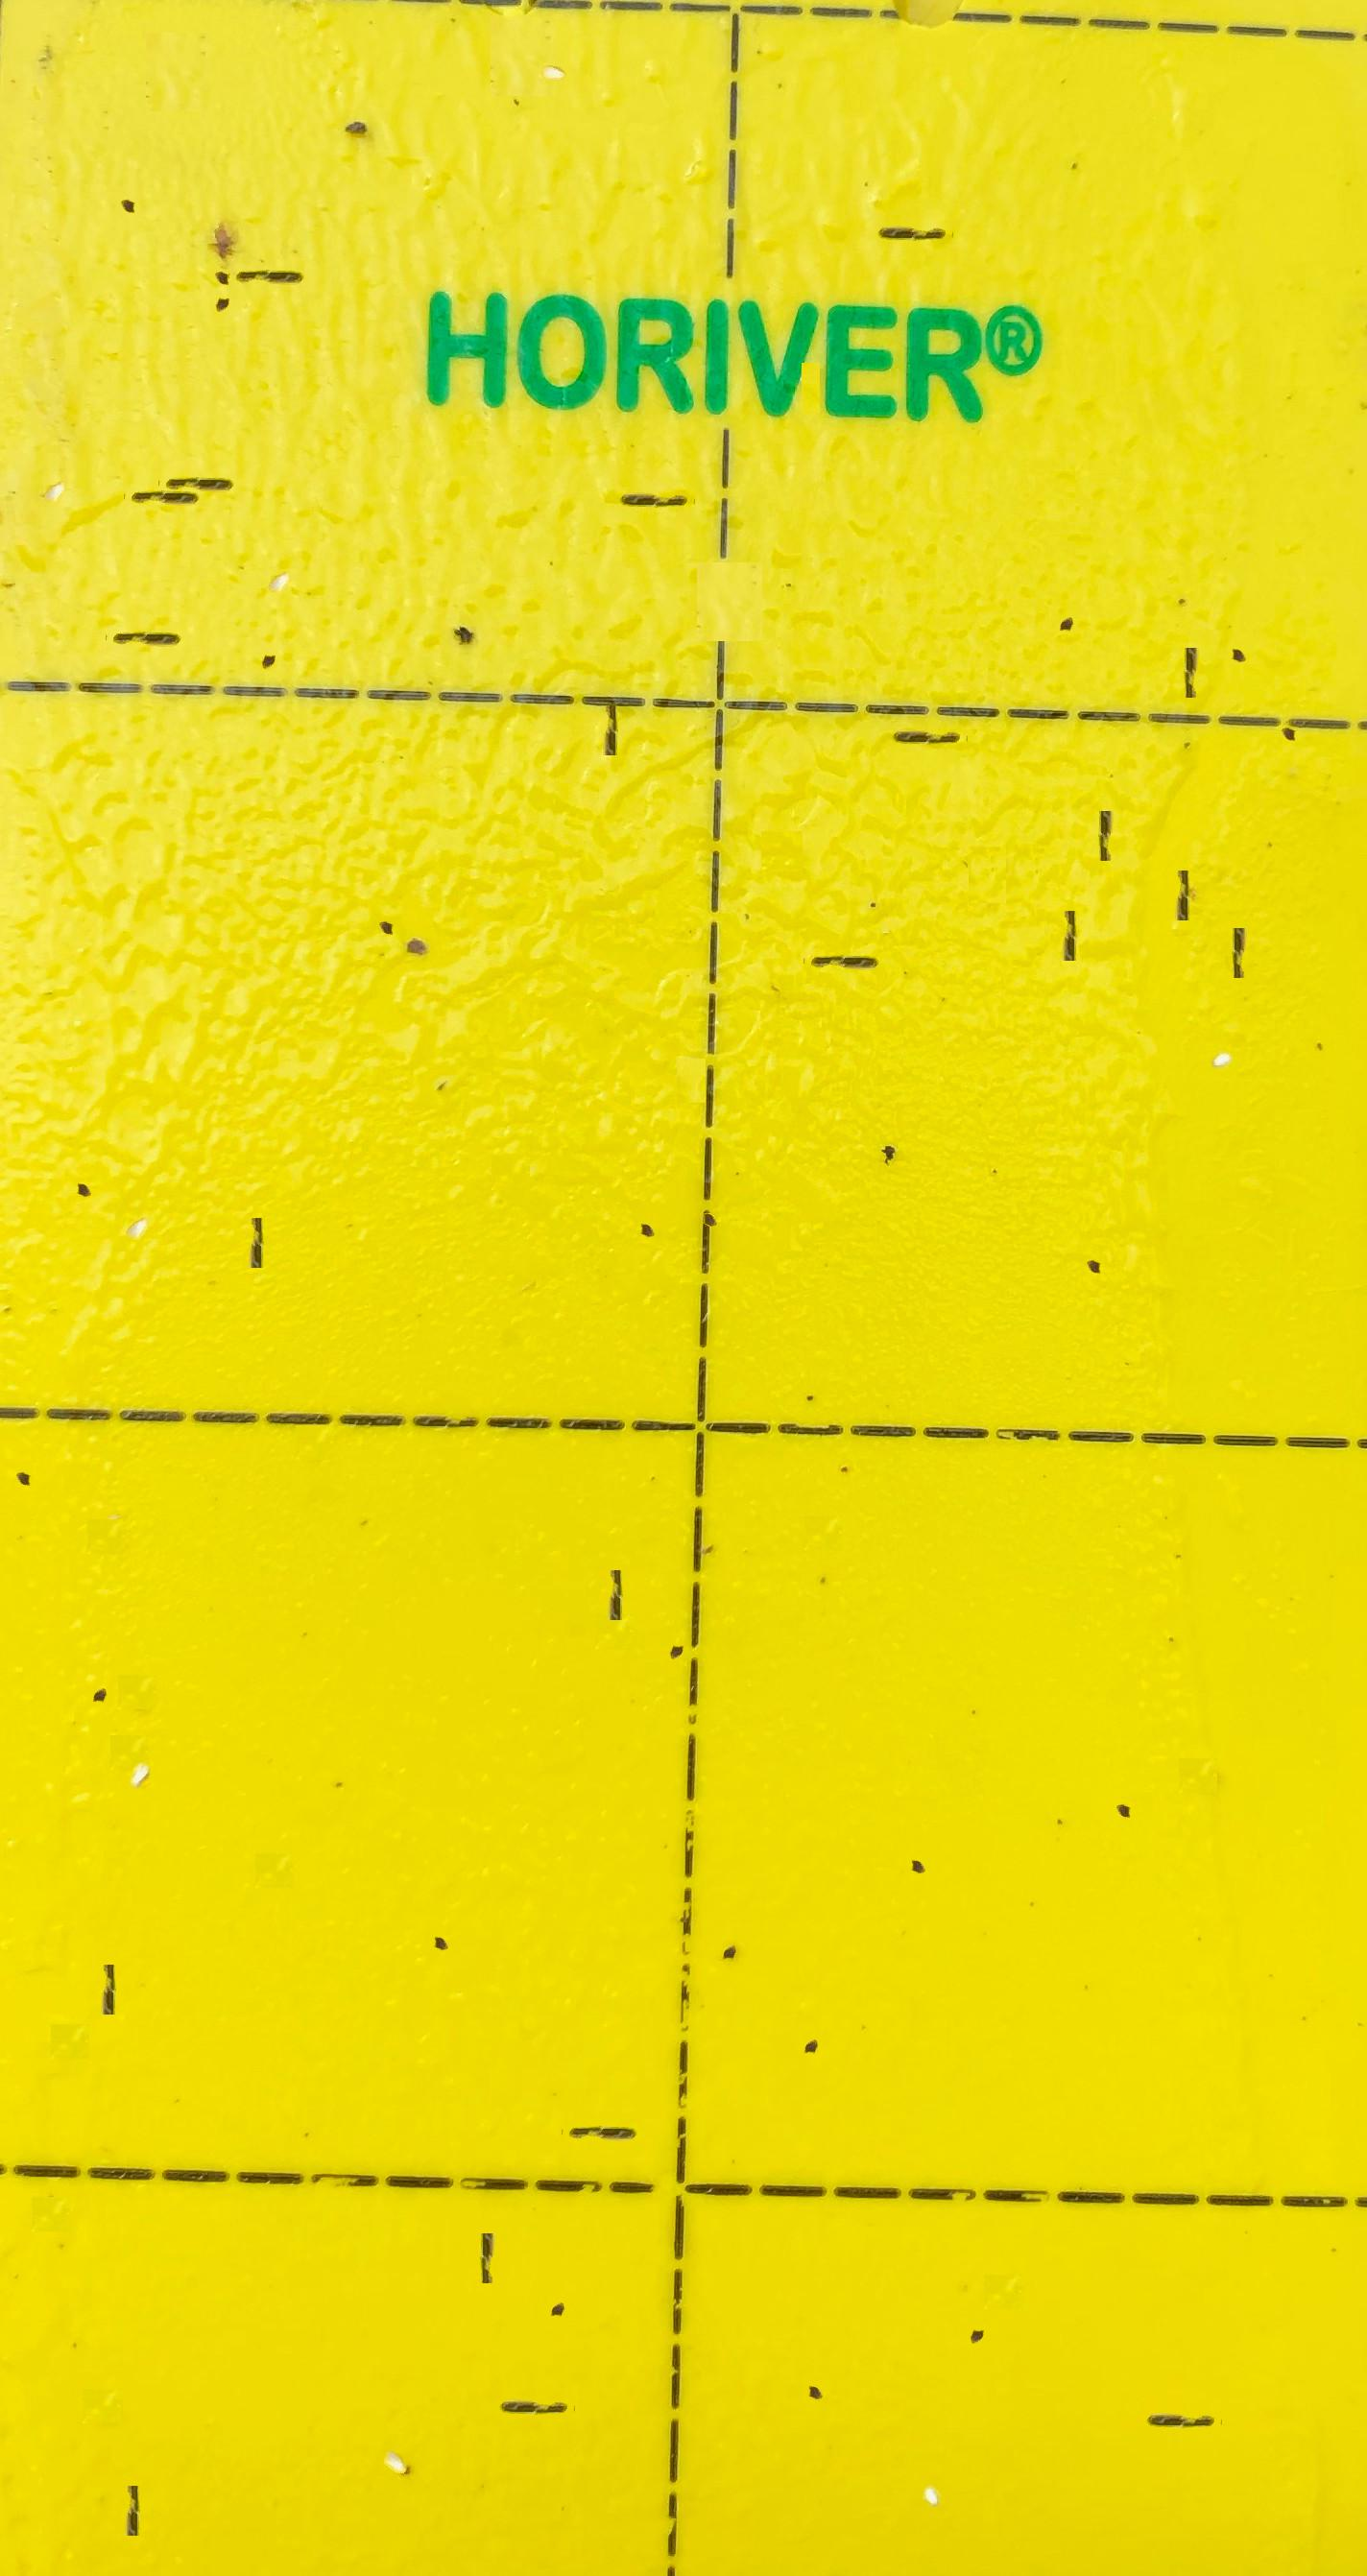white_fly: (910, 2423, 953, 2472), (1202, 988, 1244, 1036), (118, 1704, 159, 1750), (116, 1165, 159, 1208), (373, 2397, 416, 2440), (34, 429, 75, 472), (259, 520, 300, 562), (532, 15, 573, 53)
